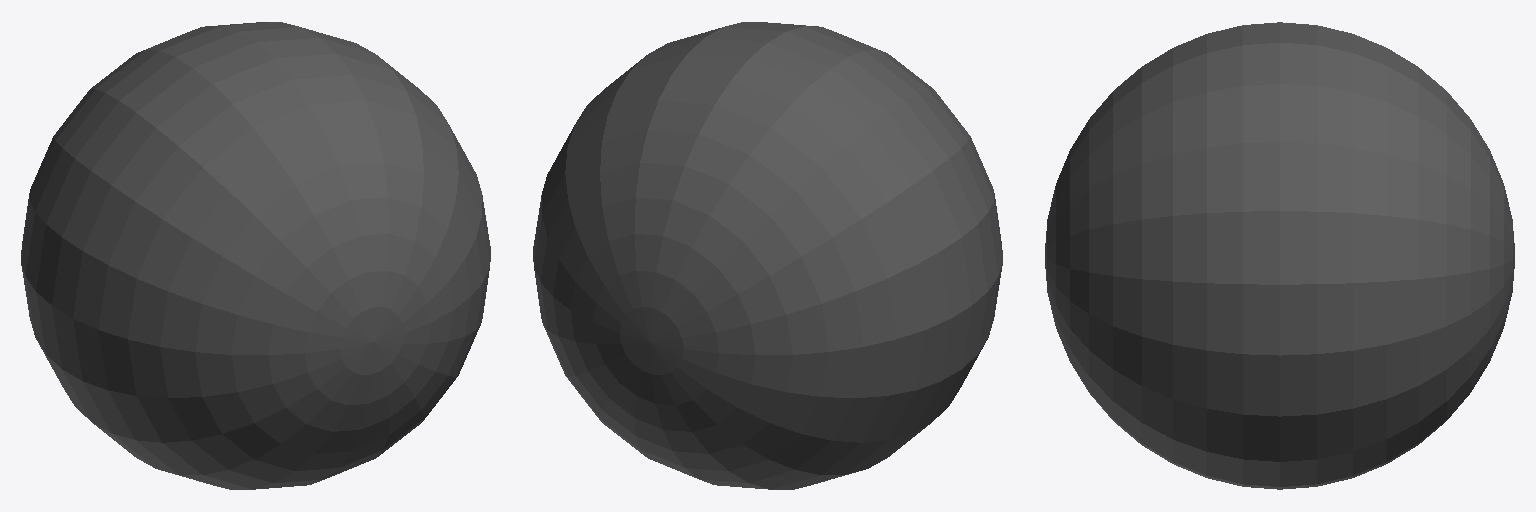
The picture shows the model from 3 angles: view 1: azimuth 30°, elevation 25°; view 2: azimuth 150°, elevation 25°; view 3: azimuth 270°, elevation 25°; orthographic projection.
Parts seen in each view (by area): view 1: pSphere1_pSphereShape1; view 2: pSphere1_pSphereShape1; view 3: pSphere1_pSphereShape1.
Part boxes in pixels (bbox=[...]): pSphere1_pSphereShape1: bbox=[21, 22, 490, 489]; pSphere1_pSphereShape1: bbox=[533, 22, 1002, 489]; pSphere1_pSphereShape1: bbox=[1045, 22, 1514, 489].
Bounding box in the file's own units: 2 × 2 × 2.